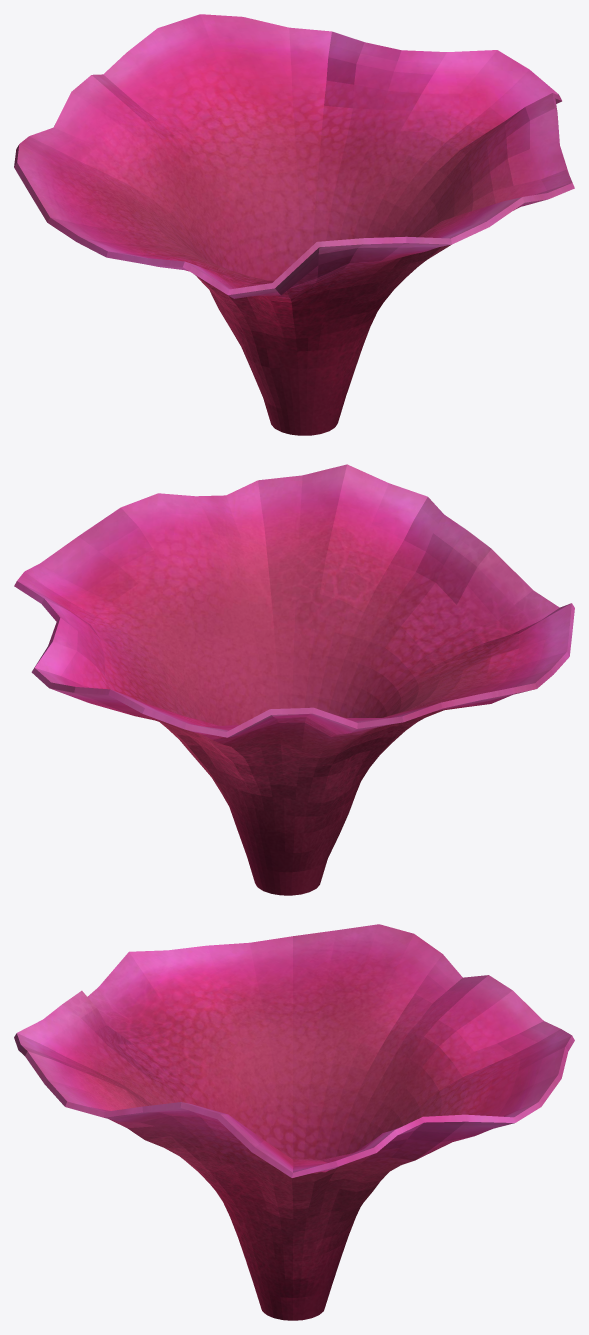
The model's file is plant_45.fbx.
3 renders of one model, top to bottom at view 1: azimuth 30°, elevation 25°; view 2: azimuth 150°, elevation 25°; view 3: azimuth 270°, elevation 25°, orthographic. The views are drawn at different scales.
Parts seen in each view (by area): view 1: Mesh; view 2: Mesh; view 3: Mesh.
Boxes of the visible parts, <box> form: Mesh: <box>14,14,574,435</box>; Mesh: <box>14,464,574,895</box>; Mesh: <box>14,924,574,1320</box>.
Size of the model in its own units: 20.68 by 11.93 by 20.62.
